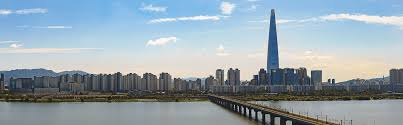city: (6, 66, 399, 100)
lake: (3, 99, 400, 124)
sky: (2, 3, 403, 68)
